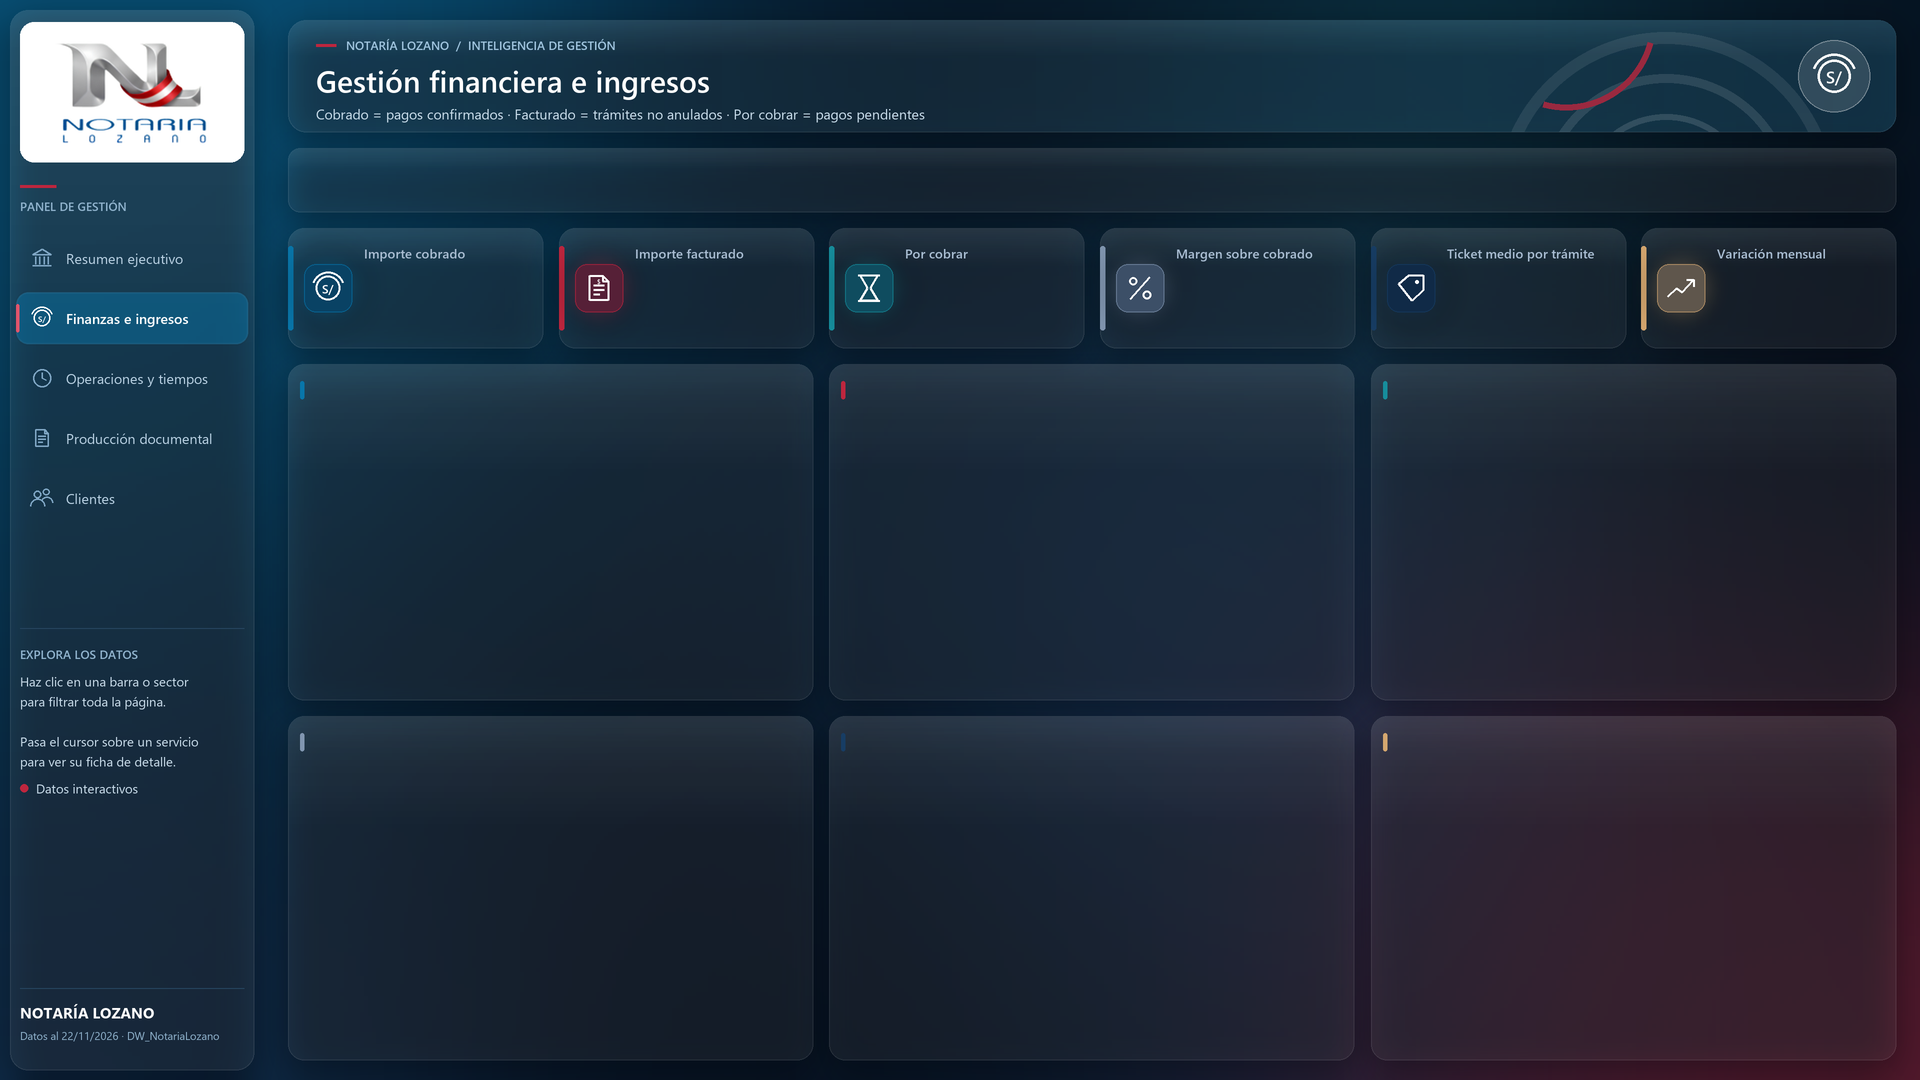

The dashboard page shown, as its layout file describes it:
{"tool":"powerbi","page":{"name":"Gestión financiera e ingresos","canvas":[1920,1280],"ordinal":0},"visuals":[{"type":"textbox","box":[302,67,1400,52],"z":0},{"type":"textbox","box":[304,123,1450,40],"z":1},{"type":"slicer","fields":{"Values":["DIM_TIEMPO.Anio"]},"box":[296,216,250.3,61],"z":3},{"type":"slicer","fields":{"Values":["DIM_TIEMPO.Nombre_Mes"]},"box":[560.3,216,250.3,61],"z":4},{"type":"slicer","fields":{"Values":["DIM_SERVICIO.Nombre_Tramite"]},"box":[824.7,216,250.3,61],"z":5},{"type":"slicer","fields":{"Values":["DIM_PERSONAL.Nombre_Completo"]},"box":[1089,216,250.3,61],"z":6},{"type":"slicer","fields":{"Values":["DIM_METODO_PAGO.Tipo_Pago"]},"box":[1353.3,216,250.3,61],"z":7},{"type":"slicer","fields":{"Values":["DIM_ESTADO_PAGO.Estado"]},"box":[1617.7,216,250.3,61],"z":8},{"type":"card","fields":{"Values":["FACT_TRAMITES_FINANCIEROS.Importe cobrado"]},"box":[280,310,308,122],"z":9},{"type":"card","fields":{"Values":["FACT_TRAMITES_FINANCIEROS.Registros financieros"]},"box":[604,310,308,122],"z":10},{"type":"card","fields":{"Values":["FACT_TRAMITES_FINANCIEROS.Importe medio por registro"]},"box":[928,310,308,122],"z":11},{"type":"card","fields":{"Values":["FACT_TRAMITE_GENERAL.Pagos registrados"]},"box":[1252,310,308,122],"z":12},{"type":"card","fields":{"Values":["FACT_TRAMITES_FINANCIEROS.Variacion mensual cobros"]},"box":[1576,310,308,122],"z":13},{"type":"textbox","box":[295.5,1231,1580.2,19],"z":14},{"type":"lineChart","title":"Evolución mensual del importe cobrado","fields":{"Category":["DIM_TIEMPO.Nombre_Mes"],"Y":["FACT_TRAMITES_FINANCIEROS.Importe cobrado"]},"box":[306,494,492,214],"z":15},{"type":"clusteredBarChart","title":"Importe cobrado por servicio","fields":{"Category":["DIM_SERVICIO.Nombre_Tramite"],"Y":["FACT_TRAMITES_FINANCIEROS.Importe cobrado"]},"box":[846,494,492,214],"z":16},{"type":"donutChart","title":"Importe por método de pago","fields":{"Category":["DIM_METODO_PAGO.Tipo_Pago"],"Y":["FACT_TRAMITES_FINANCIEROS.Importe cobrado"]},"box":[1386,494,492,214],"z":17},{"type":"clusteredBarChart","title":"Importe por responsable","fields":{"Category":["DIM_PERSONAL.Nombre_Completo"],"Y":["FACT_TRAMITES_FINANCIEROS.Importe cobrado"]},"box":[306,744,492,214],"z":18},{"type":"clusteredColumnChart","title":"Registros financieros por mes","fields":{"Category":["DIM_TIEMPO.Nombre_Mes"],"Y":["FACT_TRAMITES_FINANCIEROS.Registros financieros"]},"box":[846,744,492,214],"z":19},{"type":"clusteredBarChart","title":"Trámites por estado de pago · hecho general","fields":{"Category":["DIM_ESTADO_PAGO.Estado"],"Y":["FACT_TRAMITE_GENERAL.Tramites registrados"]},"box":[1386,744,492,214],"z":20},{"type":"tableEx","title":"Resumen financiero por fecha, servicio y método (agrupado)","fields":{"Values":["DIM_TIEMPO.Fecha_Exacta","DIM_SERVICIO.Nombre_Tramite","DIM_METODO_PAGO.Tipo_Pago","DIM_PERSONAL.Nombre_Completo","FACT_TRAMITES_FINANCIEROS.Registros financieros","FACT_TRAMITES_FINANCIEROS.Importe cobrado","FACT_TRAMITES_FINANCIEROS.Importe medio por registro"]},"box":[295.5,990.8,1572.3,259.2],"z":21},{"type":"actionButton","box":[24,685,196,44],"z":23},{"type":"actionButton","box":[24,260,196,76],"z":40},{"type":"actionButton","box":[24,352,196,76],"z":41},{"type":"actionButton","box":[24,444,196,76],"z":42}]}

Visuals, with their boxes on the page's 1920x1280 design canvas (x1, y1, x2, y2). These are canvas units, not pixel positions in the 1920x1080 screenshot, which may show the page scaled, cropped or inside an application window:
textbox: l=302, t=67, r=1702, b=119
textbox: l=304, t=123, r=1754, b=163
slicer - DIM_TIEMPO.Anio: l=296, t=216, r=546, b=277
slicer - DIM_TIEMPO.Nombre_Mes: l=560, t=216, r=811, b=277
slicer - DIM_SERVICIO.Nombre_Tramite: l=825, t=216, r=1075, b=277
slicer - DIM_PERSONAL.Nombre_Completo: l=1089, t=216, r=1339, b=277
slicer - DIM_METODO_PAGO.Tipo_Pago: l=1353, t=216, r=1604, b=277
slicer - DIM_ESTADO_PAGO.Estado: l=1618, t=216, r=1868, b=277
card - FACT_TRAMITES_FINANCIEROS.Importe cobrado: l=280, t=310, r=588, b=432
card - FACT_TRAMITES_FINANCIEROS.Registros financieros: l=604, t=310, r=912, b=432
card - FACT_TRAMITES_FINANCIEROS.Importe medio por registro: l=928, t=310, r=1236, b=432
card - FACT_TRAMITE_GENERAL.Pagos registrados: l=1252, t=310, r=1560, b=432
card - FACT_TRAMITES_FINANCIEROS.Variacion mensual cobros: l=1576, t=310, r=1884, b=432
textbox: l=296, t=1231, r=1876, b=1250
"Evolución mensual del importe cobrado" lineChart: l=306, t=494, r=798, b=708
"Importe cobrado por servicio" clusteredBarChart: l=846, t=494, r=1338, b=708
"Importe por método de pago" donutChart: l=1386, t=494, r=1878, b=708
"Importe por responsable" clusteredBarChart: l=306, t=744, r=798, b=958
"Registros financieros por mes" clusteredColumnChart: l=846, t=744, r=1338, b=958
"Trámites por estado de pago · hecho general" clusteredBarChart: l=1386, t=744, r=1878, b=958
"Resumen financiero por fecha, servicio y método (agrupado)" tableEx: l=296, t=991, r=1868, b=1250
actionButton: l=24, t=685, r=220, b=729
actionButton: l=24, t=260, r=220, b=336
actionButton: l=24, t=352, r=220, b=428
actionButton: l=24, t=444, r=220, b=520
